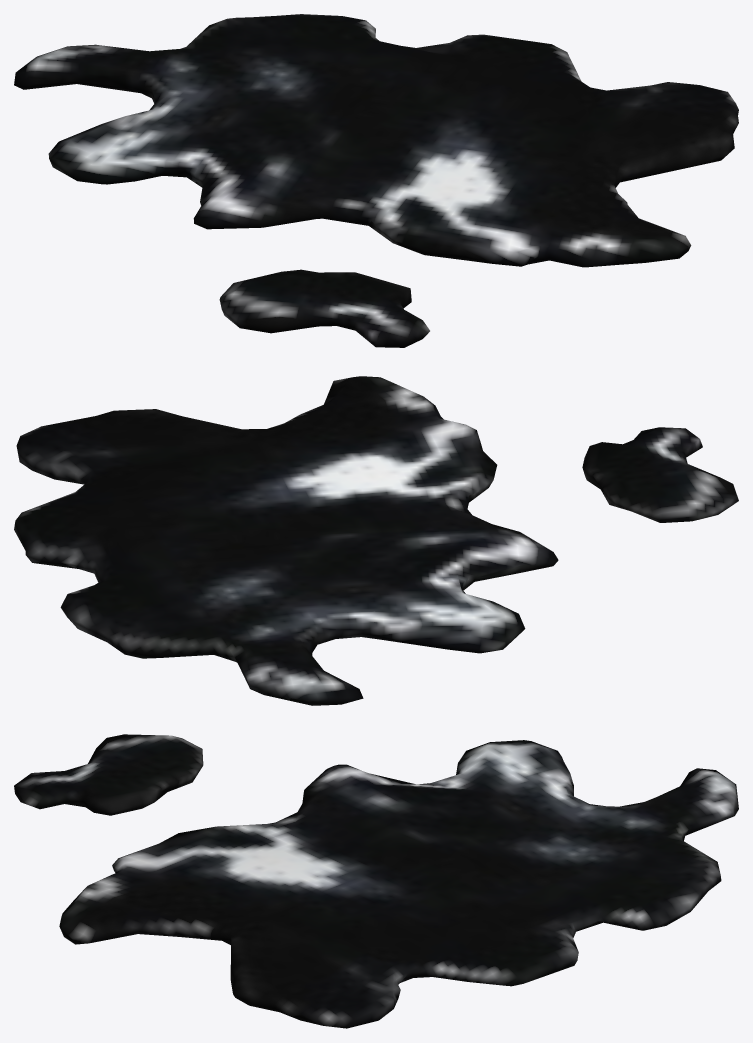
The model's file is Oil.glb.
The picture shows the model from 3 angles, top to bottom: view 1: azimuth 30°, elevation 25°; view 2: azimuth 150°, elevation 25°; view 3: azimuth 270°, elevation 25°; orthographic projection. The views are drawn at different scales.
Parts seen in each view (by area): view 1: Oil_low.001; view 2: Oil_low.001; view 3: Oil_low.001.
Boxes of the visible parts, x1=… form: Oil_low.001: x1=14, y1=14, x2=738, y2=347; Oil_low.001: x1=14, y1=376, x2=738, y2=705; Oil_low.001: x1=14, y1=734, x2=738, y2=1028.
Size of the model in its own units: 0.6328 by 0.0284 by 0.6835.
Materials: 1 (1 with a texture image).
